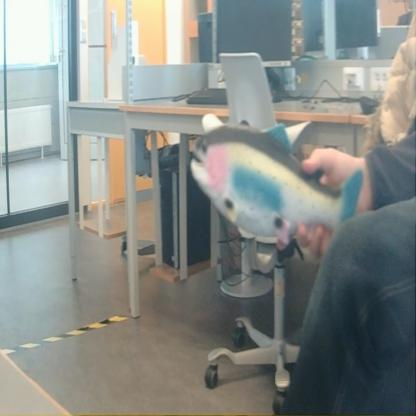rubberfish: (185, 119, 367, 248)
